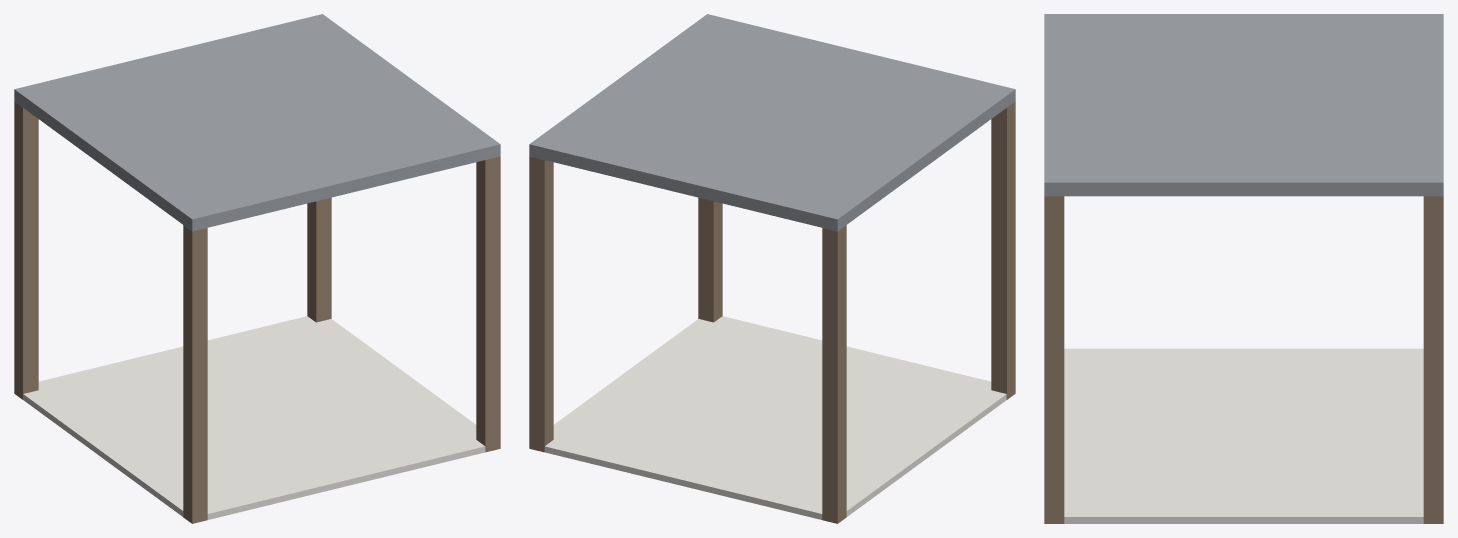
The model's file is aisle-corner.glb.
3 views of the same model, side by side, from view 1: azimuth 30°, elevation 25°; view 2: azimuth 150°, elevation 25°; view 3: azimuth 270°, elevation 25° (orthographic). The views are drawn at different scales.
Visible parts, largest first — view 1: aisle-corner; view 2: aisle-corner; view 3: aisle-corner.
Part boxes in pixels (x1,y1,x2,y2): aisle-corner: (14,14,500,523); aisle-corner: (529,14,1015,523); aisle-corner: (1044,14,1443,523).
Size of the model in its own units: 3.2 by 3.02 by 3.2.
